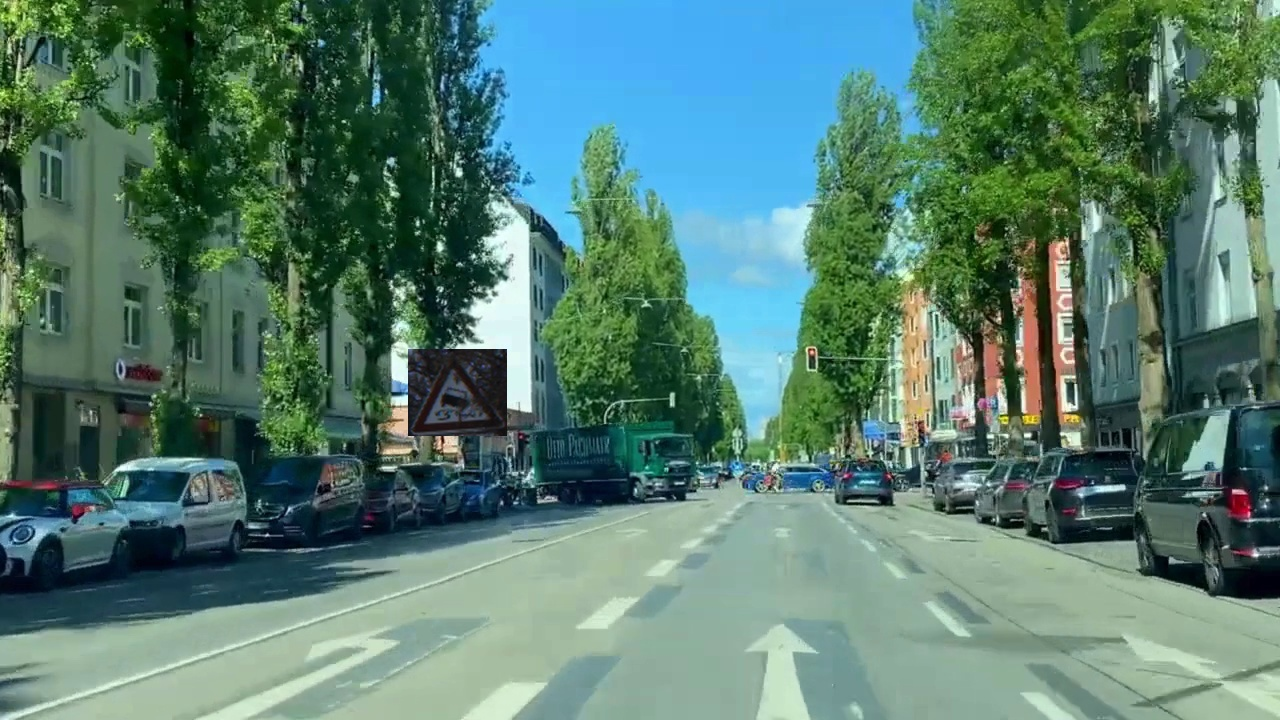Slippery: (408, 349, 507, 436)
